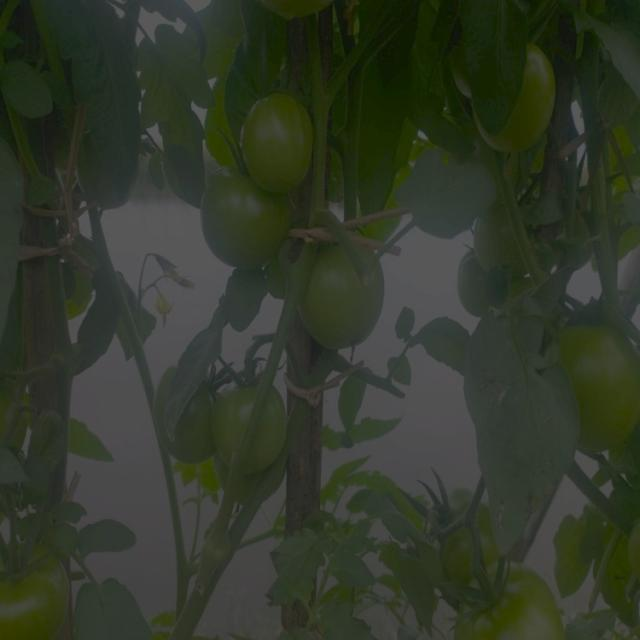tomato: (288, 225, 388, 348), (561, 311, 640, 446), (198, 171, 298, 269), (1, 520, 77, 640), (458, 566, 566, 640), (242, 89, 318, 189), (505, 45, 568, 154), (431, 485, 492, 591), (603, 517, 640, 632), (254, 388, 292, 465), (208, 371, 239, 464), (181, 391, 213, 460), (247, 1, 350, 21)
